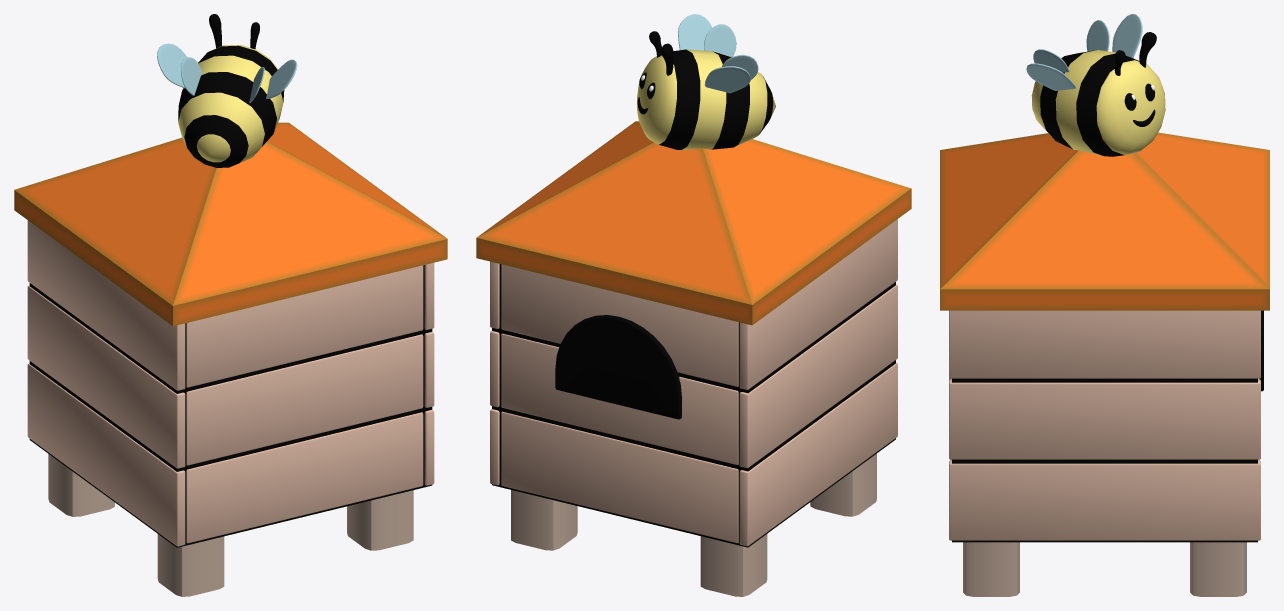
The model's file is BeeHive.fbx.
3 renders of one model, left to right at view 1: azimuth 30°, elevation 25°; view 2: azimuth 150°, elevation 25°; view 3: azimuth 270°, elevation 25°, orthographic. The views are drawn at different scales.
Parts seen in each view (by area): view 1: Panels.001, Roof, Panels, Body.003, Feet.002, Inside, Wings; view 2: Roof, Panels.001, Panels, Body.003, Door.002, Feet.002, Inside, Wings; view 3: Panels, Roof, Body.003, Feet.002, Inside, Wings, Antenna.
Boxes of the visible parts, <box> form: Panels.001: <box>186,265,423,543</box>; Roof: <box>14,122,447,326</box>; Panels: <box>27,220,434,546</box>; Body.003: <box>178,45,284,167</box>; Feet.002: <box>48,454,413,596</box>; Inside: <box>29,265,432,547</box>; Wings: <box>157,43,297,102</box>; Roof: <box>476,121,911,325</box>; Panels.001: <box>501,264,738,543</box>; Panels: <box>490,219,897,546</box>; Body.003: <box>637,49,775,150</box>; Door.002: <box>555,315,681,419</box>; Feet.002: <box>511,453,876,596</box>; Inside: <box>492,264,895,547</box>; Wings: <box>678,14,758,93</box>; Panels: <box>949,310,1260,540</box>; Roof: <box>940,132,1269,310</box>; Body.003: <box>1031,50,1165,156</box>; Feet.002: <box>963,542,1246,596</box>; Inside: <box>952,378,1257,542</box>; Wings: <box>1026,14,1142,90</box>; Antenna: <box>1114,32,1156,75</box>.
Bounding box in the file's own units: 73.48 × 125 × 73.48.
